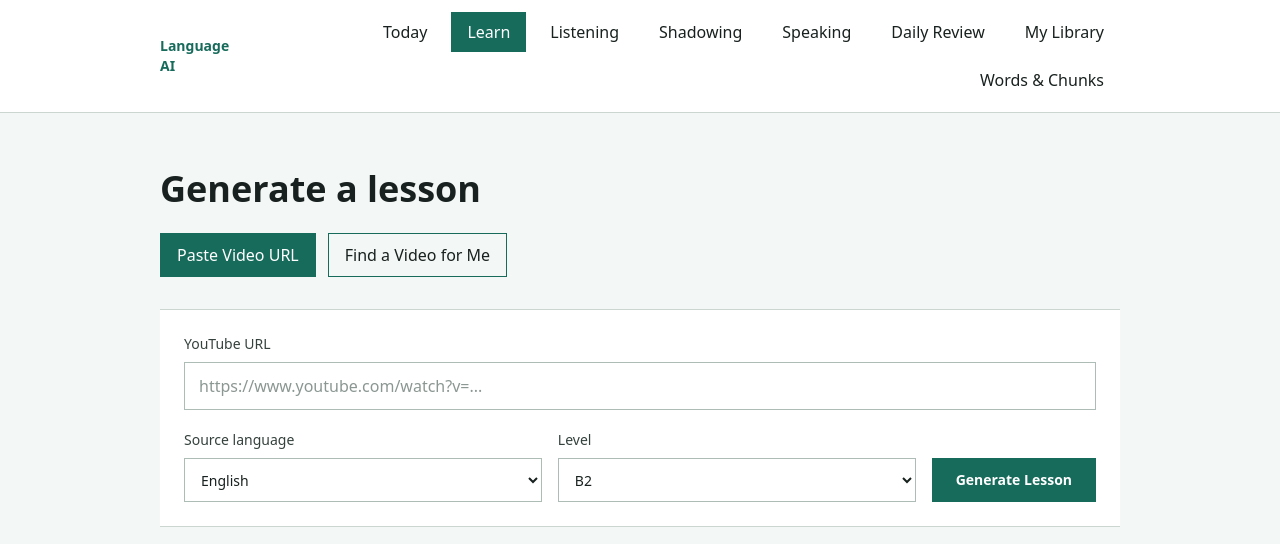
App Library navigation › provides top-level Shadowing navigation backed by Library summaries
The width and height of the screenshot is (1280, 544).
Step 1. Click the button "Shadowing" → (701, 32), box top-left (643, 12), bottom-right (758, 52)
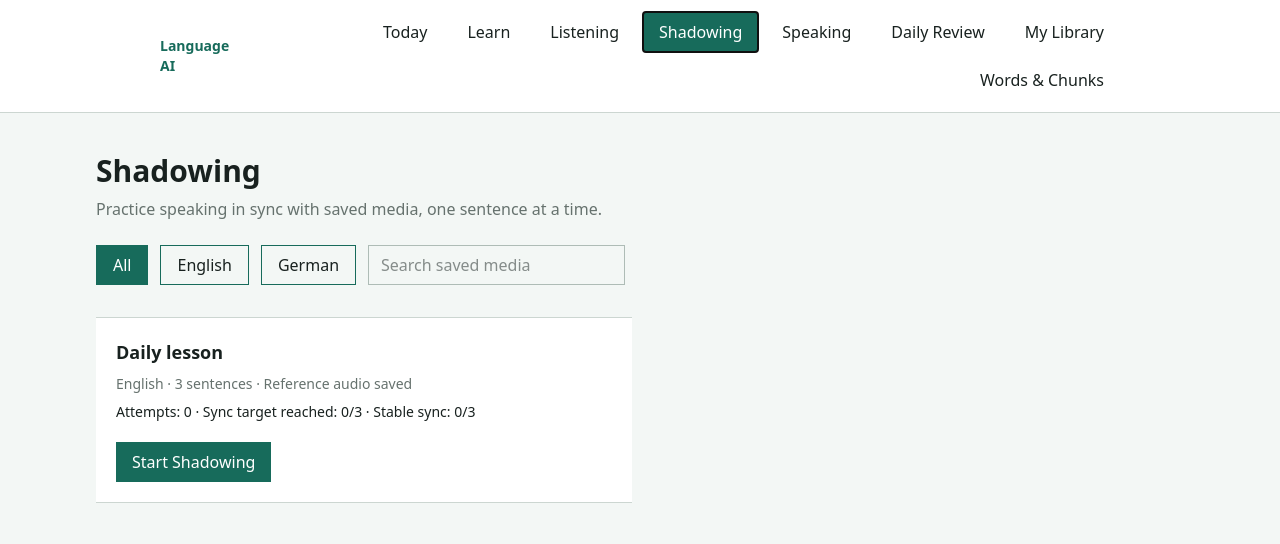
Now the heading "Shadowing" is shown, box top-left (96, 150), bottom-right (261, 191)
Now the heading "Daily lesson" is shown, box top-left (116, 340), bottom-right (223, 364)
Now the button "Start Shadowing" is shown, box top-left (116, 442), bottom-right (271, 482)
